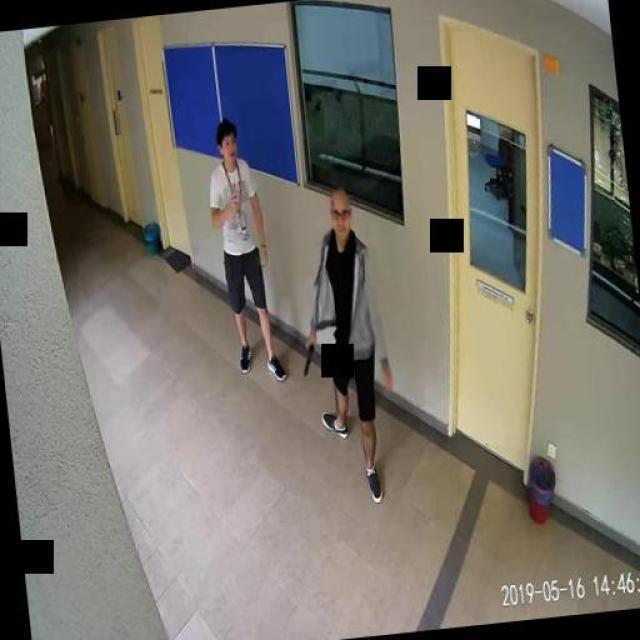gun: (299, 338, 316, 373)
